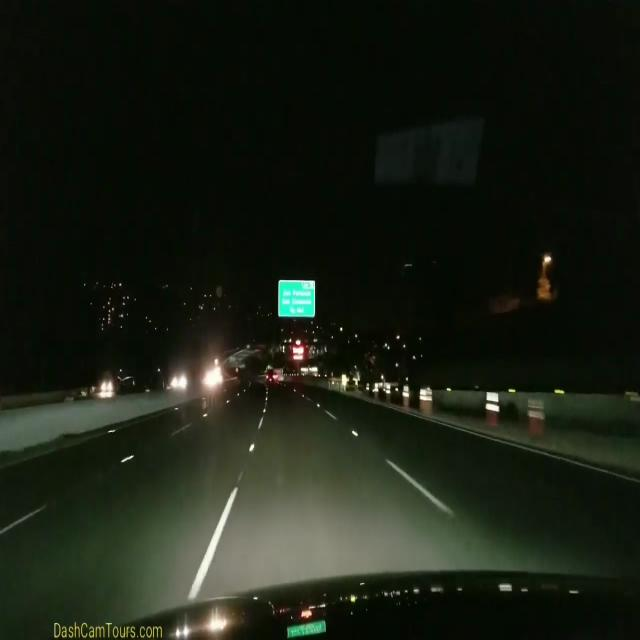street-signs: (278, 279, 316, 318)
